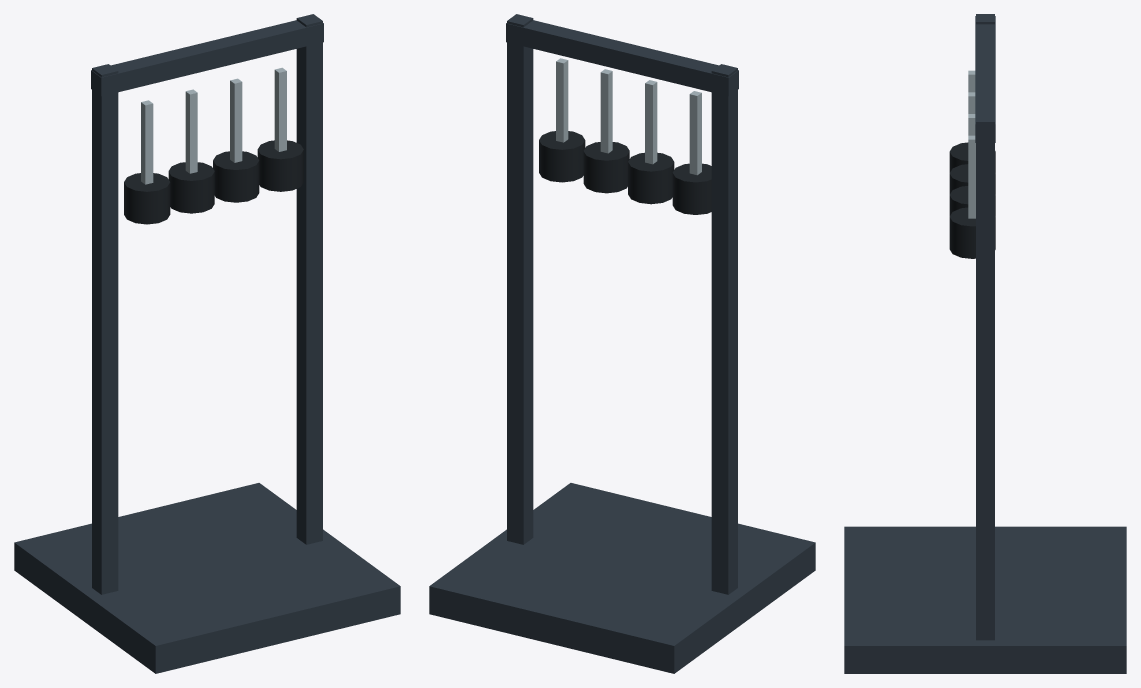
Rendered from gym-equipment-rack.glb.
The picture shows the model from 3 angles, left to right: view 1: azimuth 30°, elevation 25°; view 2: azimuth 150°, elevation 25°; view 3: azimuth 270°, elevation 25°; orthographic projection.
Parts seen in each view (by area): view 1: gym-equipment-rack; view 2: gym-equipment-rack; view 3: gym-equipment-rack.
Boxes of the visible parts, left/top/right/bottom form: gym-equipment-rack: left=14, top=14, right=400, bottom=673; gym-equipment-rack: left=429, top=14, right=815, bottom=673; gym-equipment-rack: left=844, top=14, right=1126, bottom=673.
Bounding box in the file's own units: 1.1 × 2.35 × 1.1.
